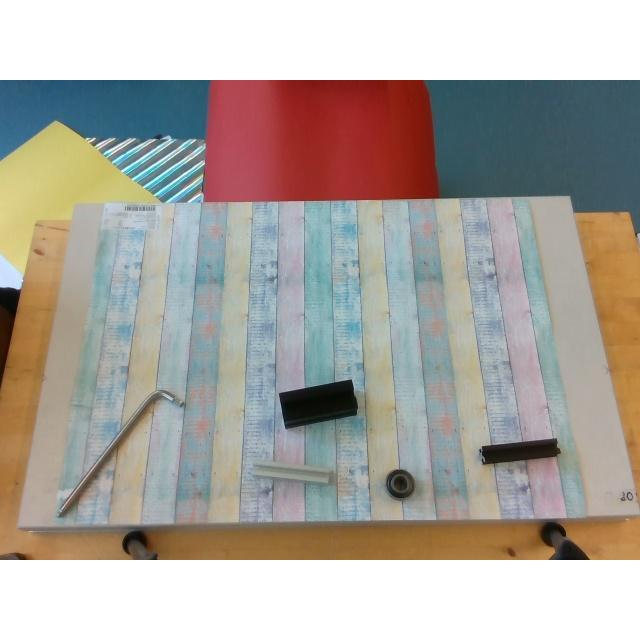AllenKey: (56, 388, 184, 514)
Bearing2: (386, 469, 414, 499)
F20_20_B: (480, 438, 560, 464)
F20_20_G: (253, 461, 330, 484)
S40_40_B: (279, 379, 357, 428)
